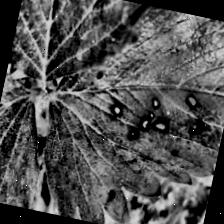Leaf Spot: (23, 0, 224, 224), (5, 0, 158, 102), (0, 40, 67, 210)
